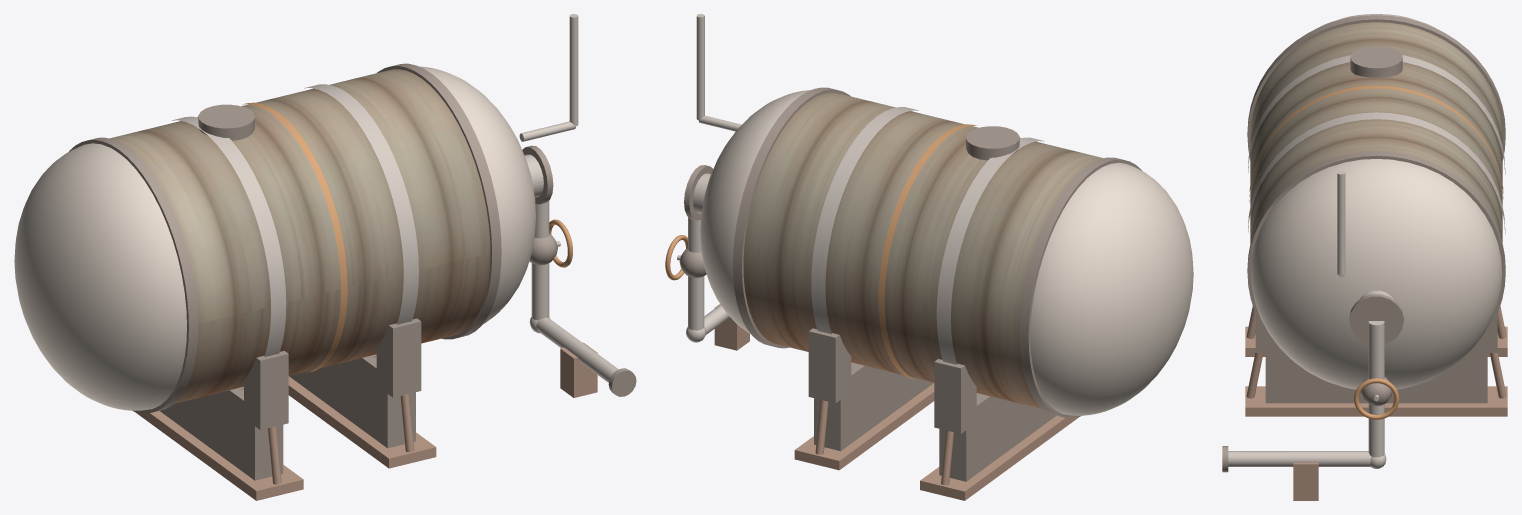
File: E09_horizontal_tank_5m.glb
The picture shows the model from 3 angles, left to right: view 1: azimuth 30°, elevation 25°; view 2: azimuth 150°, elevation 25°; view 3: azimuth 270°, elevation 25°; orthographic projection. The views are drawn at different scales.
Visible parts, largest first — view 1: tank, end_dome, end_ring, strap, base_plate; view 2: tank, end_dome, end_ring, strap, base_plate; view 3: end_dome, tank, end_ring, strap, base_plate.
Boxes of the visible parts, bbox=[...] form: tank: bbox=[109, 69, 490, 403]; end_dome: bbox=[14, 66, 572, 410]; end_ring: bbox=[69, 63, 636, 480]; strap: bbox=[171, 14, 618, 390]; base_plate: bbox=[135, 342, 597, 500]; tank: bbox=[743, 92, 1103, 408]; end_dome: bbox=[665, 90, 1193, 415]; end_ring: bbox=[679, 87, 1141, 481]; strap: bbox=[677, 14, 1044, 396]; base_plate: bbox=[714, 304, 1078, 500]; end_dome: bbox=[1249, 14, 1503, 419]; tank: bbox=[1250, 22, 1502, 243]; end_ring: bbox=[1222, 15, 1505, 472]; strap: bbox=[1228, 55, 1505, 468]; base_plate: bbox=[1245, 306, 1507, 500].
Bounding box in the file's own units: 5.52 × 3.6 × 2.83.
Materials: 5 (1 with a texture image).
